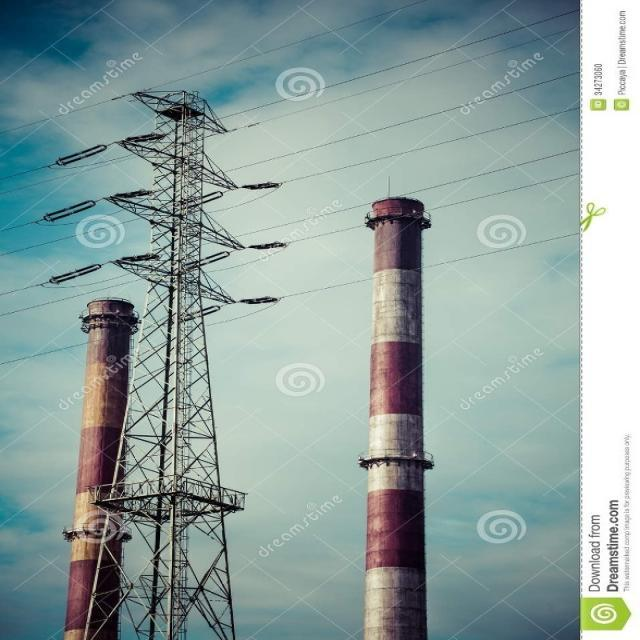non-critical vegetation: (94, 77, 248, 546)
